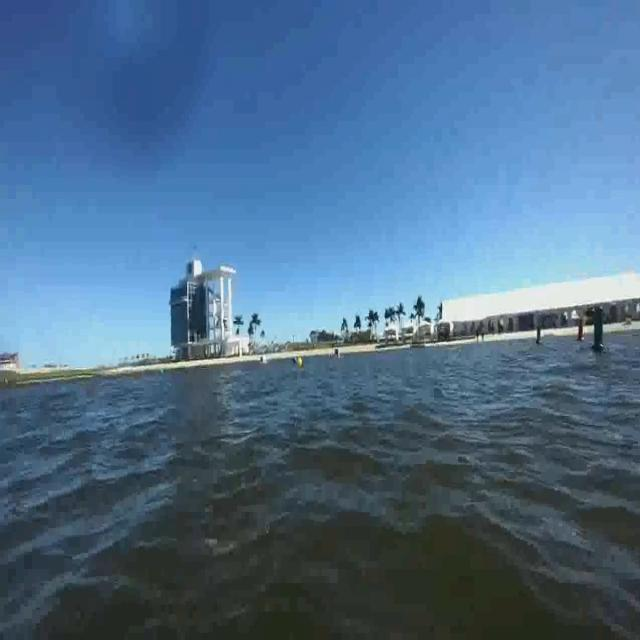green-column-buoy: (591, 307, 608, 352)
red-column-buoy: (575, 319, 586, 346)
yellow-buoy: (296, 356, 303, 368)
